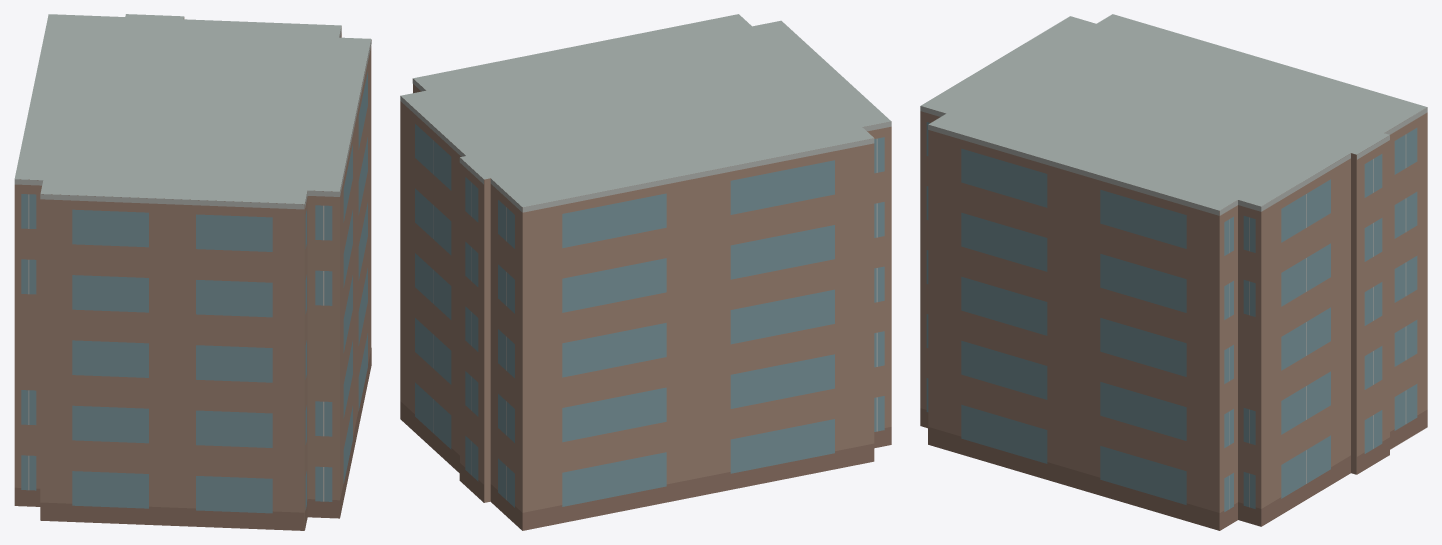
File: survey-upis-32787543.glb
3 renders of one model, left to right at view 1: azimuth 30°, elevation 25°; view 2: azimuth 150°, elevation 25°; view 3: azimuth 270°, elevation 25°, orthographic. The views are drawn at different scales.
Visible parts, largest first — view 1: survey-upis-32787543.tmp; view 2: survey-upis-32787543.tmp; view 3: survey-upis-32787543.tmp.
Boxes of the visible parts, x1=… form: survey-upis-32787543.tmp: x1=14, y1=14, x2=371, y2=530; survey-upis-32787543.tmp: x1=400, y1=14, x2=891, y2=530; survey-upis-32787543.tmp: x1=920, y1=14, x2=1427, y2=530.
Size of the model in its own units: 19.78 by 15 by 21.54.
